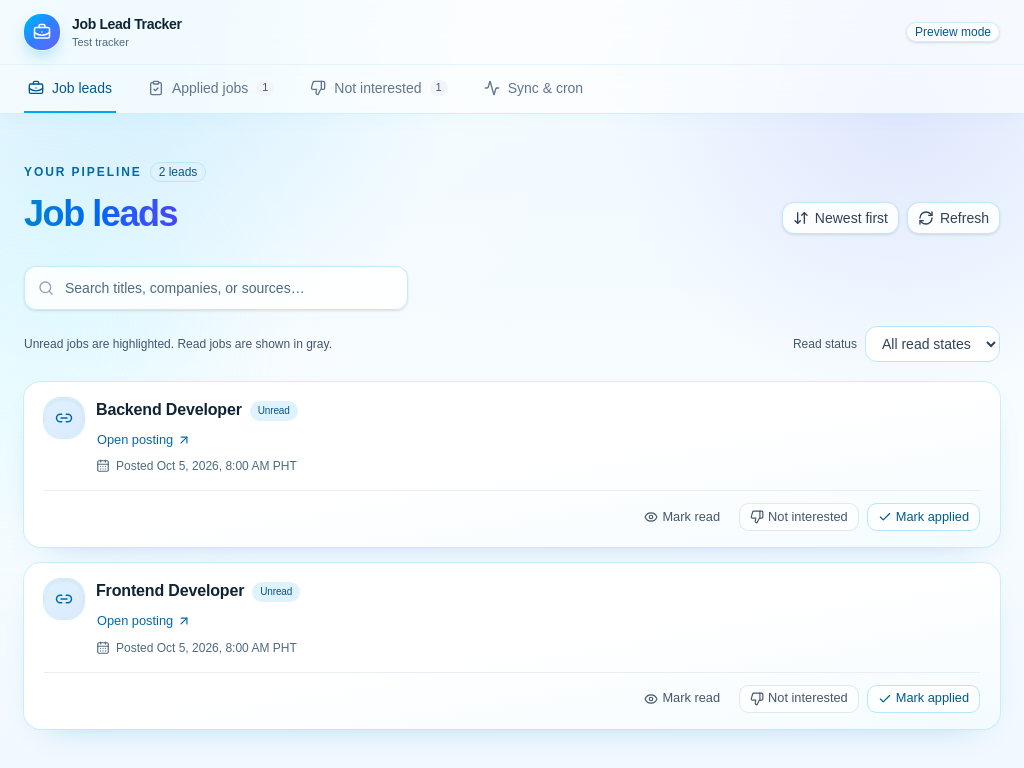
Test case: DashboardView job tracking › searches case-insensitively within each job status and keeps the query across views
The image size is (1024, 768).
Type "  FRONTEND  " into the search field named "Search jobs" at (216, 288), box [24,266,408,310]
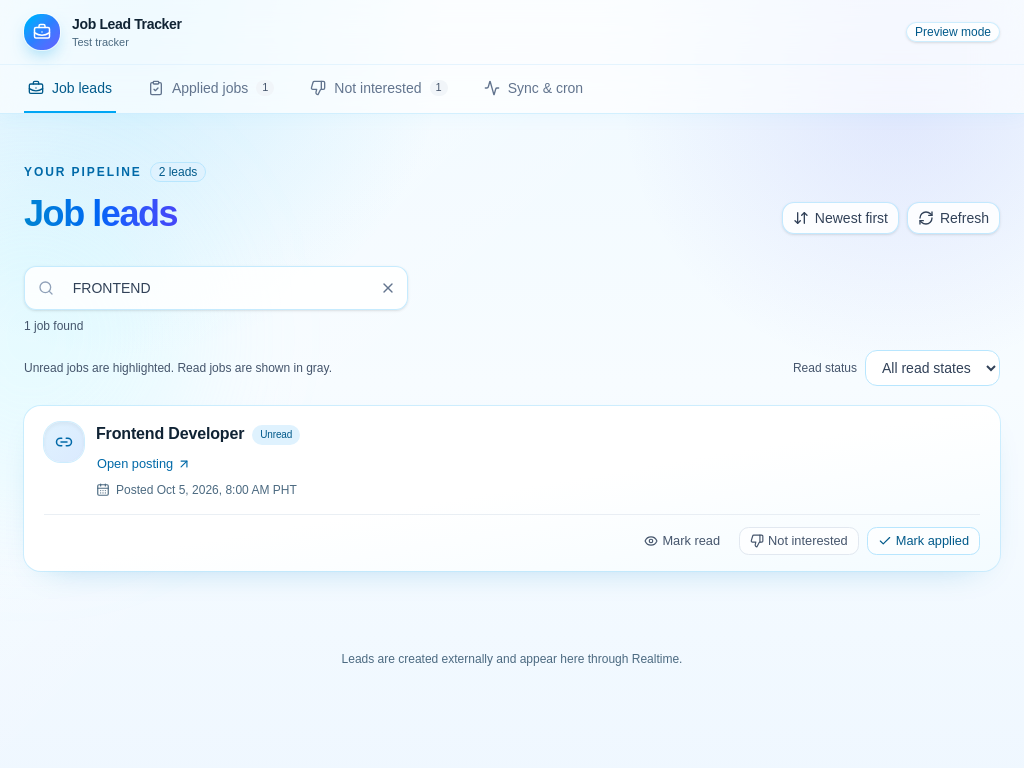
Expected: the element "Frontend Developer" is shown, [24,406,1000,571]
Expected: the text "1 job found" is shown, [24,319,83,333]
Click the link "Applied jobs 1" at (211, 88), box [148,80,274,96]
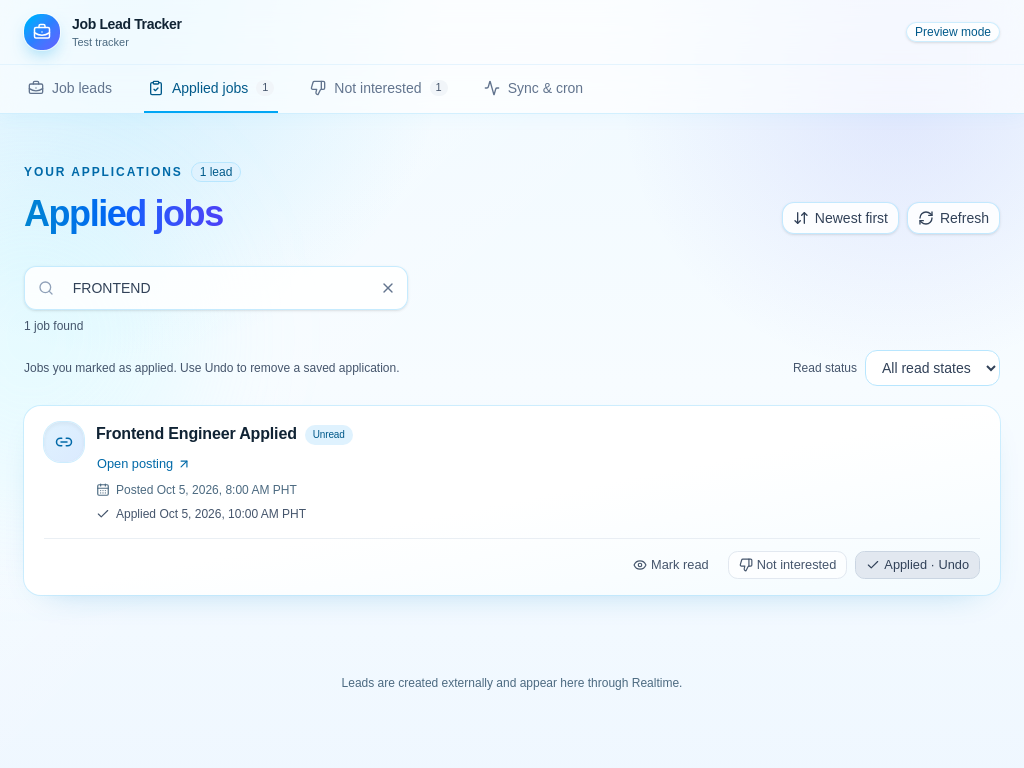
Expected: the element "Frontend Engineer Applied" is shown, [24,406,1000,595]
Click the link "Not interested 1" at (379, 88), box [310,80,448,96]
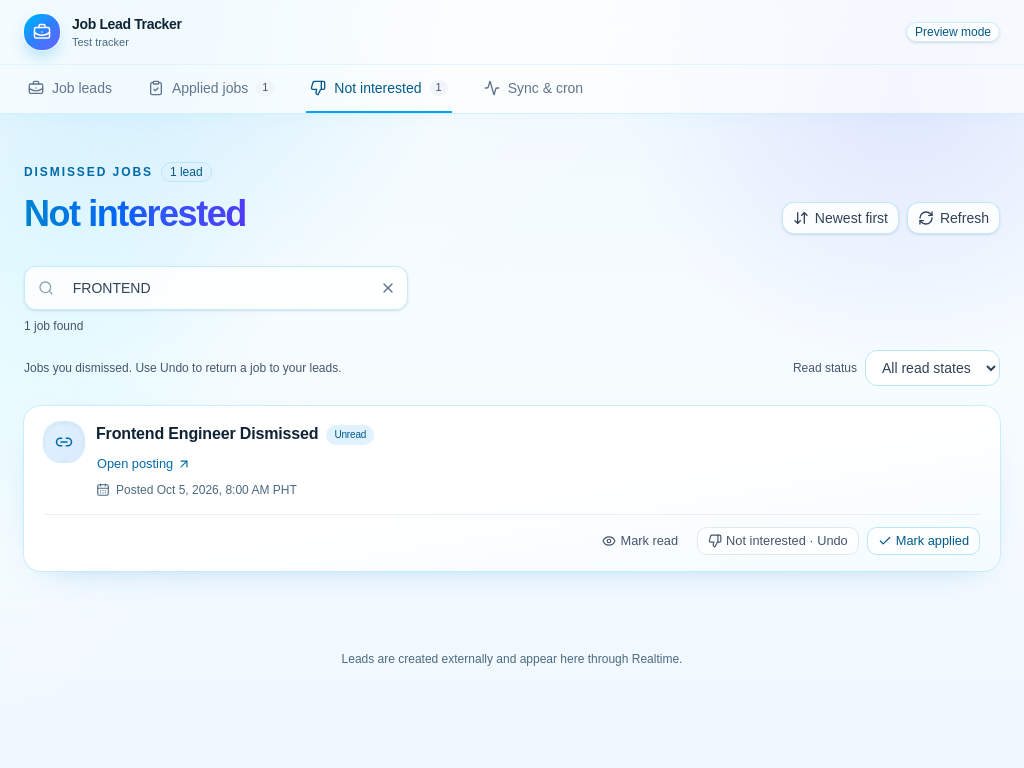
Expected: the element "Frontend Engineer Dismissed" is shown, [24,406,1000,571]
Click the link "Sync & cron" at (533, 88), box [484,80,583,96]
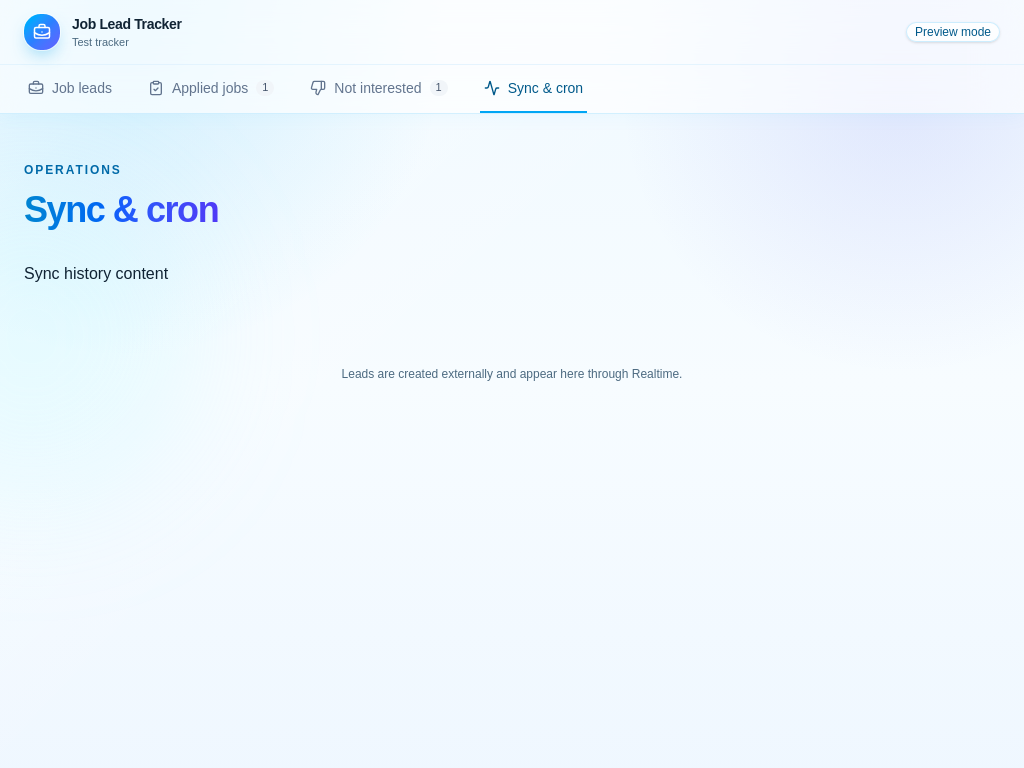
Click the link "Job leads" at (70, 88), box [28,80,112,96]
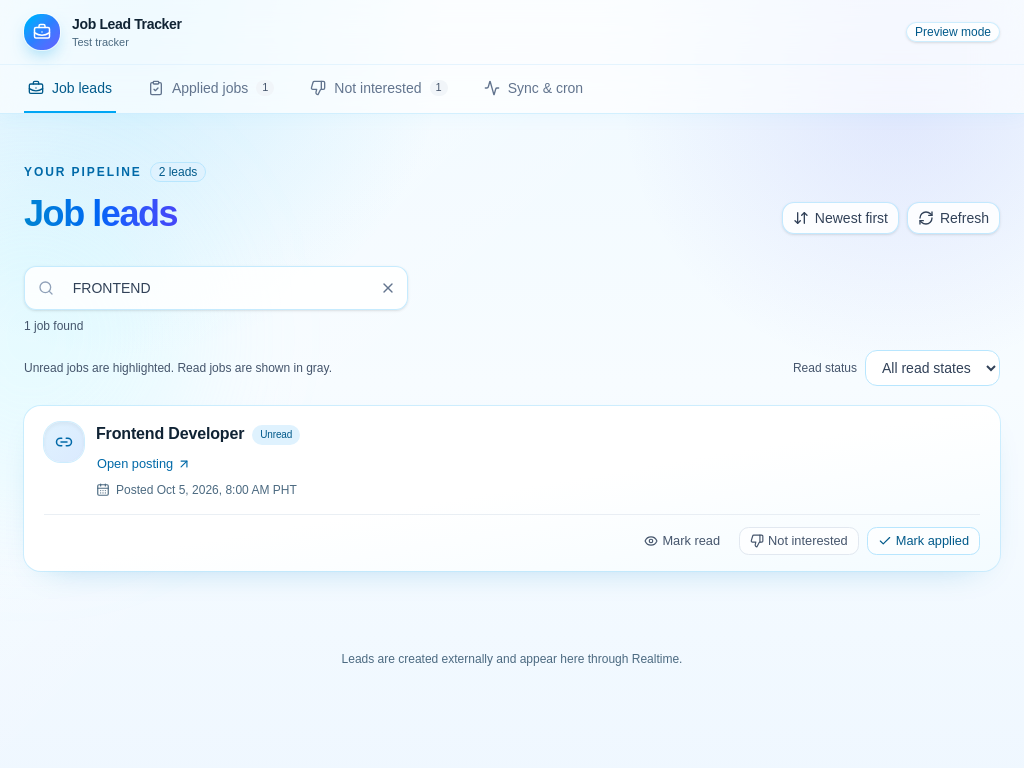
Expected: the search field named "Search jobs" holds "  FRONTEND  ", [24,266,408,310]
Expected: the element "Frontend Developer" is shown, [24,406,1000,571]
